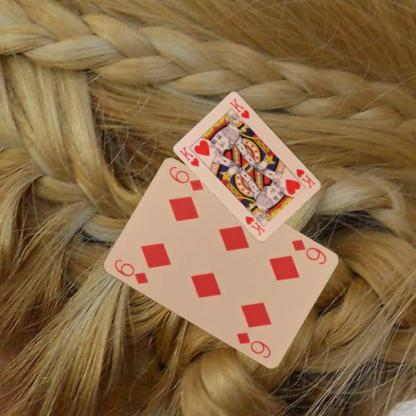6d: (288, 236, 328, 266), (111, 256, 150, 285)
Kh: (177, 144, 200, 168), (294, 166, 316, 189)
